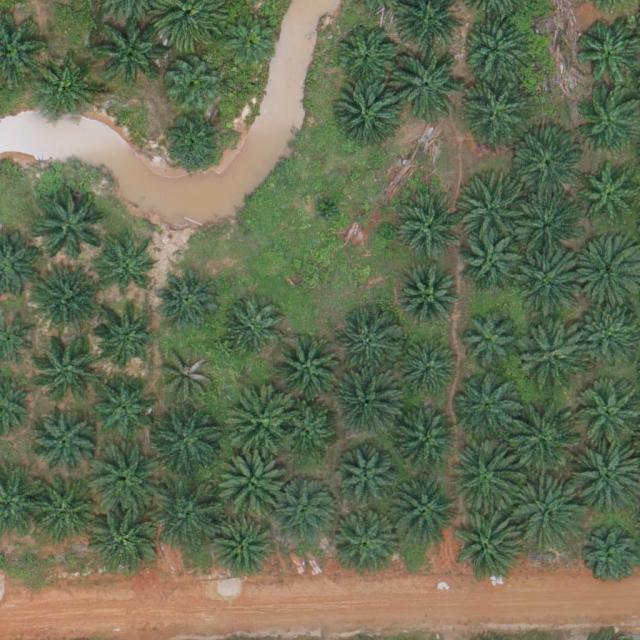Dead: (162, 351, 216, 406)
Healthy: (516, 246, 587, 317), (519, 319, 590, 390), (512, 481, 583, 552), (464, 13, 535, 84), (387, 477, 458, 548), (515, 134, 585, 205), (508, 402, 578, 473), (448, 444, 518, 515), (452, 371, 522, 442), (459, 169, 529, 240), (332, 82, 402, 153), (332, 369, 403, 439), (333, 507, 403, 578), (225, 385, 295, 456), (156, 481, 226, 552), (153, 405, 223, 476), (93, 15, 163, 86), (89, 444, 159, 515), (35, 333, 105, 404), (35, 188, 106, 258), (456, 513, 526, 583), (459, 77, 529, 147), (389, 50, 459, 120), (273, 334, 343, 404), (217, 447, 287, 517), (90, 507, 160, 577), (27, 480, 97, 550), (29, 268, 99, 338), (460, 231, 523, 294), (399, 340, 462, 403), (274, 478, 337, 541), (220, 297, 283, 360), (578, 165, 640, 228), (460, 312, 522, 375), (399, 268, 462, 330), (336, 26, 398, 89), (338, 315, 400, 378), (336, 450, 398, 513), (162, 110, 224, 173), (93, 309, 155, 372), (93, 374, 155, 437), (32, 411, 94, 474), (517, 195, 579, 257), (399, 200, 461, 262), (397, 413, 459, 475), (211, 517, 273, 579), (156, 269, 218, 331), (35, 61, 97, 123), (582, 531, 637, 586), (281, 405, 336, 460), (164, 53, 219, 108), (100, 244, 155, 299), (225, 12, 280, 67)
Small: (310, 192, 341, 224)
